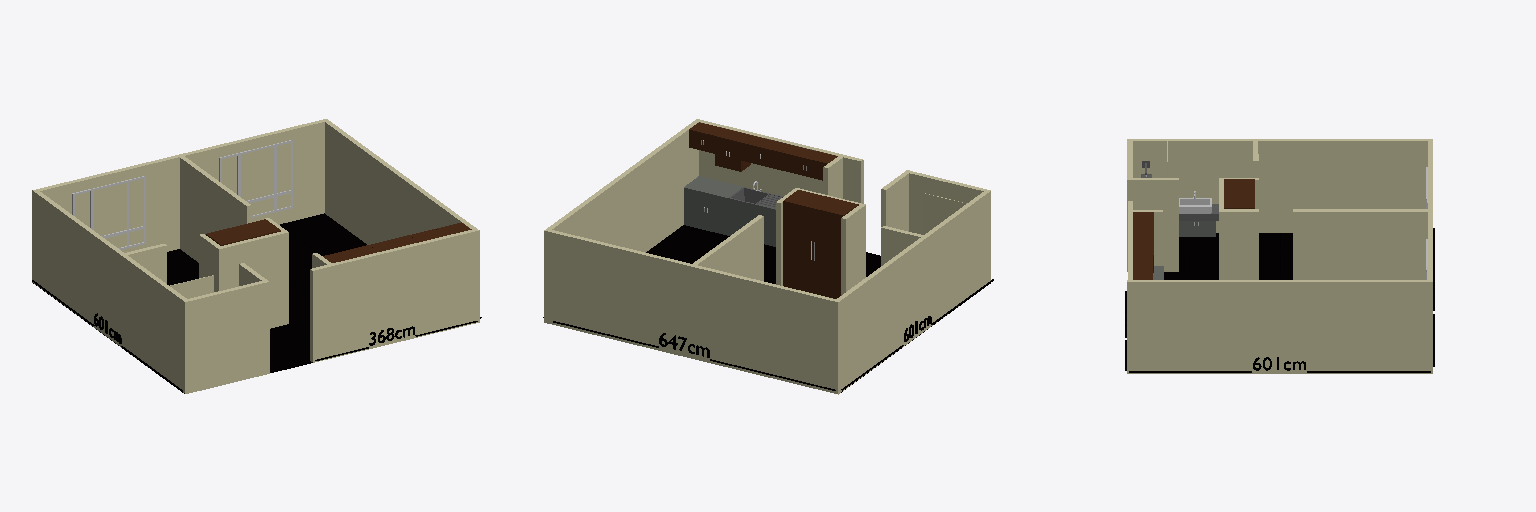
3 renders of one model, left to right at view 1: azimuth 30°, elevation 25°; view 2: azimuth 150°, elevation 25°; view 3: azimuth 270°, elevation 25°, orthographic.
Parts seen in each view (by area): view 1: backwall_Cube.003, frontwall_Cube.008, leftwall_Cube.002, rightwall_Cube.001, frontwall2_Cube.012, floor_Plane.001, middlewall_Cube.004, entrywall_Cube.006, tallCabinet_Cube.046, windowwall_Cube.049, brwall_Cube.011, crwall_Cube.007 (+3 smaller); view 2: backwall_Cube.003, leftwall_Cube.002, rightwall_Cube.001, tallCabinet_Cube.046, frontwall_Cube.008, middlewall_Cube.004, floor_Plane.001, sinktable.003_Cube.015, crwall_Cube.007, frontwall2_Cube.012, leftentrywall_Cube.009, sinktable.001_Cube.013 (+10 smaller); view 3: rightwall_Cube.001, leftwall_Cube.002, middlewall_Cube.004, floor_Plane.001, middlewall2_Cube.005, leftentrywall_Cube.009, tallCabinet_Cube.046, Text, backwall_Cube.003, sinkCabinet.001_Cube.041, kitchenwall_Cube.010, crsink.001_Cube.044.
Boxes of the visible parts, box(x1,y1,x2,y2) form: backwall_Cube.003: box(37, 120, 324, 252); frontwall_Cube.008: box(310, 230, 474, 362); leftwall_Cube.002: box(32, 189, 189, 393); rightwall_Cube.001: box(323, 119, 479, 323); frontwall2_Cube.012: box(188, 281, 264, 392); floor_Plane.001: box(33, 213, 366, 393); middlewall_Cube.004: box(180, 156, 250, 262); entrywall_Cube.006: box(218, 230, 288, 328); tallCabinet_Cube.046: box(206, 219, 280, 245); windowwall_Cube.049: box(219, 140, 292, 217); brwall_Cube.011: box(125, 244, 166, 283); crwall_Cube.007: box(199, 234, 220, 291); backwall_Cube.003: box(549, 230, 835, 392); leftwall_Cube.002: box(834, 190, 990, 394); rightwall_Cube.001: box(544, 119, 700, 323); tallCabinet_Cube.046: box(783, 190, 858, 298); frontwall_Cube.008: box(699, 120, 863, 203); middlewall_Cube.004: box(693, 215, 763, 280); floor_Plane.001: box(646, 225, 990, 392); sinktable.003_Cube.015: box(684, 176, 742, 235); crwall_Cube.007: box(841, 204, 865, 295); frontwall2_Cube.012: box(909, 171, 986, 234); leftentrywall_Cube.009: box(881, 170, 910, 231); sinktable.001_Cube.013: box(728, 198, 775, 246); rightwall_Cube.001: box(1127, 280, 1432, 373); leftwall_Cube.002: box(1127, 139, 1432, 232); middlewall_Cube.004: box(1293, 209, 1427, 279); floor_Plane.001: box(1164, 233, 1292, 279); middlewall2_Cube.005: box(1219, 209, 1258, 279); leftentrywall_Cube.009: box(1127, 178, 1178, 271); tallCabinet_Cube.046: box(1224, 179, 1254, 208); Text: box(1129, 357, 1430, 372); backwall_Cube.003: box(1427, 141, 1432, 279); sinkCabinet.001_Cube.041: box(1179, 221, 1215, 236); kitchenwall_Cube.010: box(1133, 210, 1162, 265); crsink.001_Cube.044: box(1179, 198, 1211, 213).
Size of the model in its own units: 6.82 by 2.02 by 6.08.